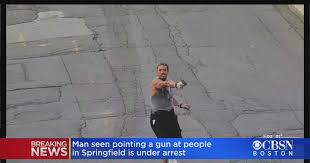gun: (177, 76, 191, 92)
